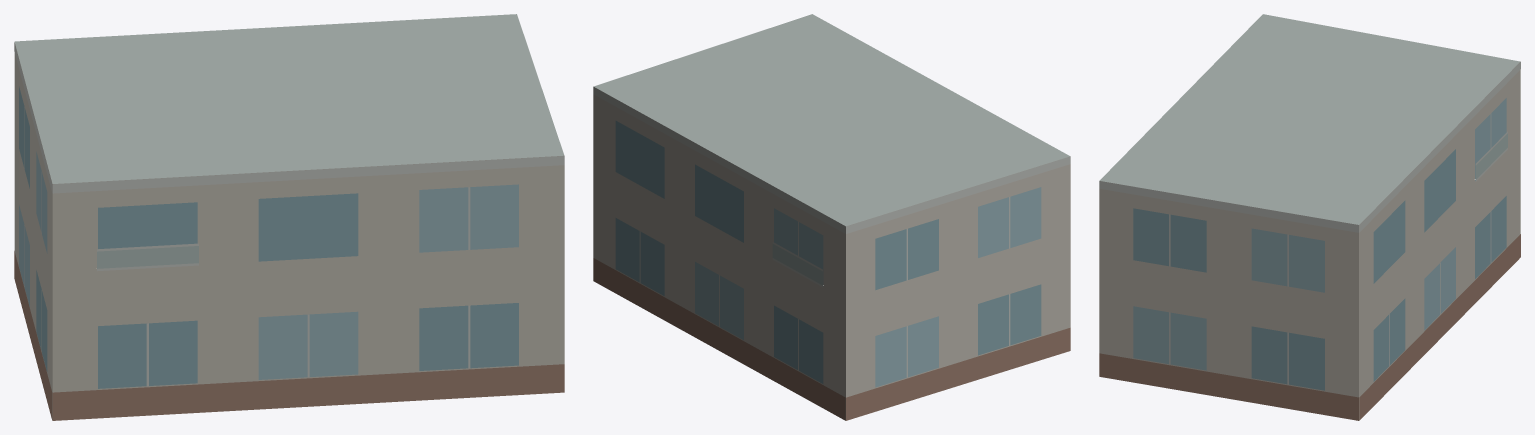
File: survey-upis-32932676.glb
3 renders of one model, left to right at view 1: azimuth 30°, elevation 25°; view 2: azimuth 150°, elevation 25°; view 3: azimuth 270°, elevation 25°, orthographic. The views are drawn at different scales.
Parts seen in each view (by area): view 1: survey-upis-32932676.tmp; view 2: survey-upis-32932676.tmp; view 3: survey-upis-32932676.tmp.
Boxes of the visible parts, box(x1,y1,x2,y2) form: survey-upis-32932676.tmp: box(14, 14, 564, 420); survey-upis-32932676.tmp: box(593, 14, 1070, 420); survey-upis-32932676.tmp: box(1099, 14, 1520, 420).
Size of the model in its own units: 14.1 by 6.1 by 11.9.
